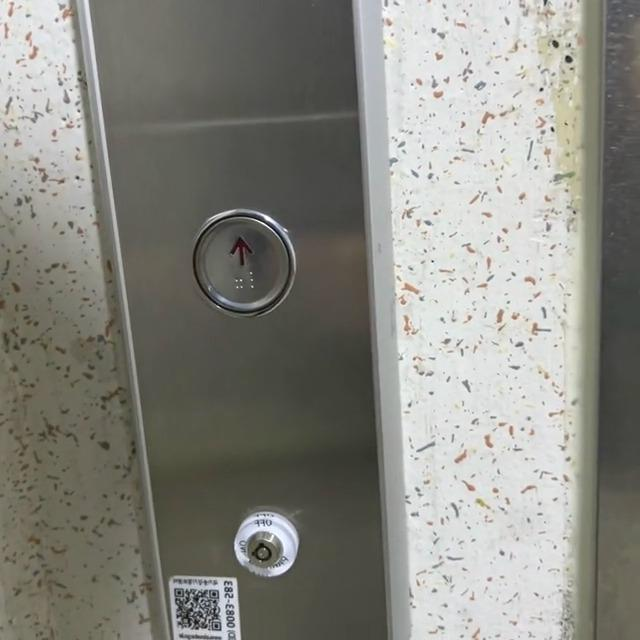button: (172, 197, 302, 314)
